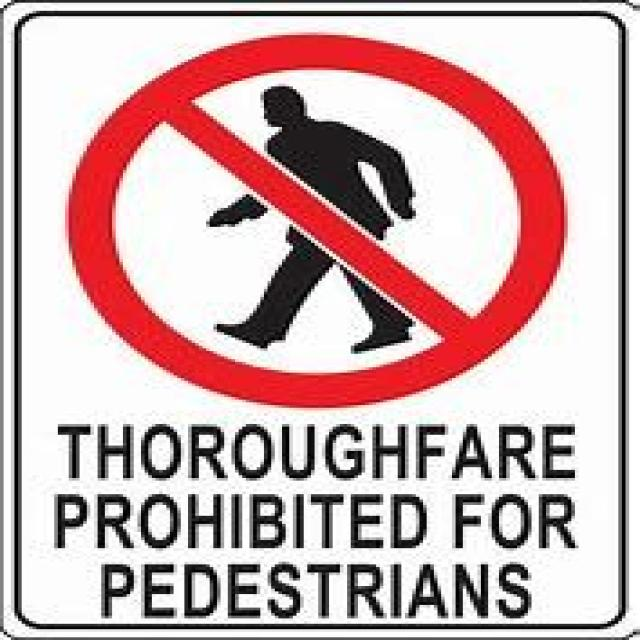Priority road: (58, 30, 564, 408)
